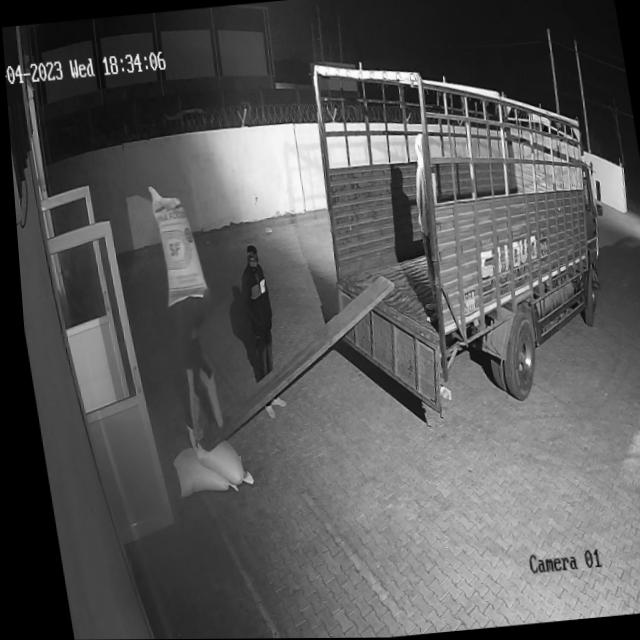sack: (144, 179, 205, 305), (180, 420, 248, 490), (163, 442, 232, 496)
